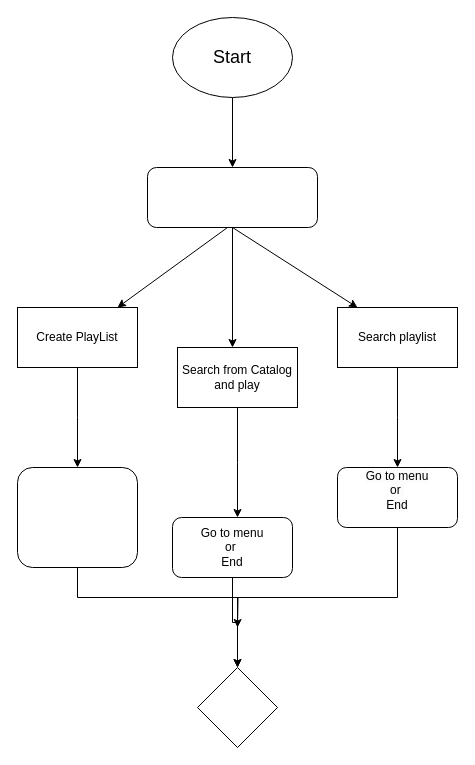
This 475x765 diagram has some shape labels left out. The centre of each missing label's shape, as x and y in pixels:
"END" belongs at point 237,707.
"Go to Menu or Create new playlist or End" belongs at point 77,517.
"Menu" belongs at point 232,197.
